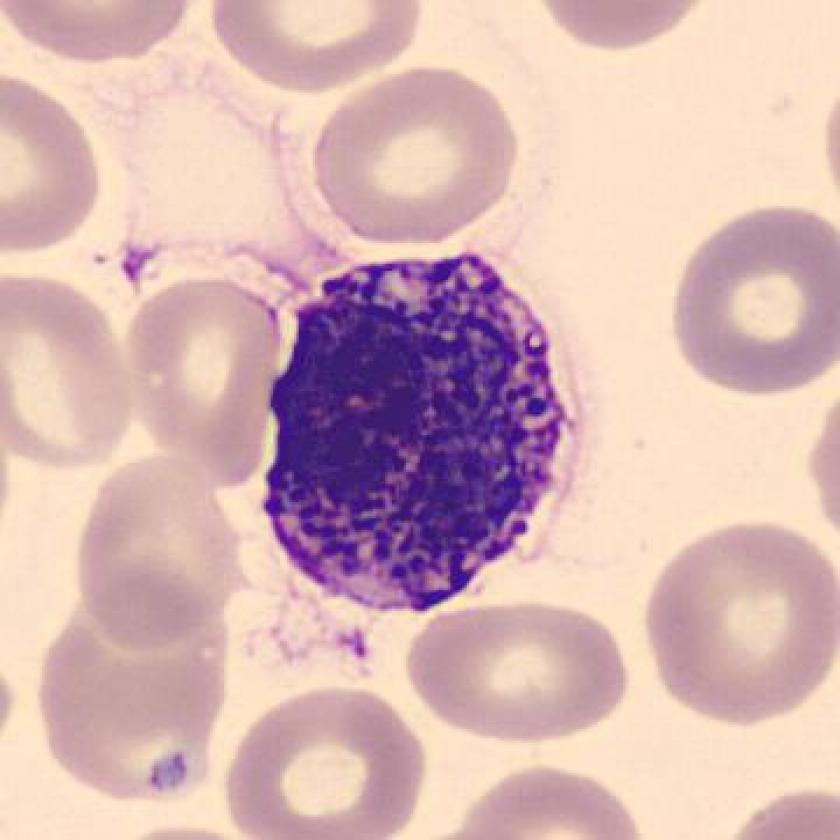basophil: (267, 244, 580, 623)
